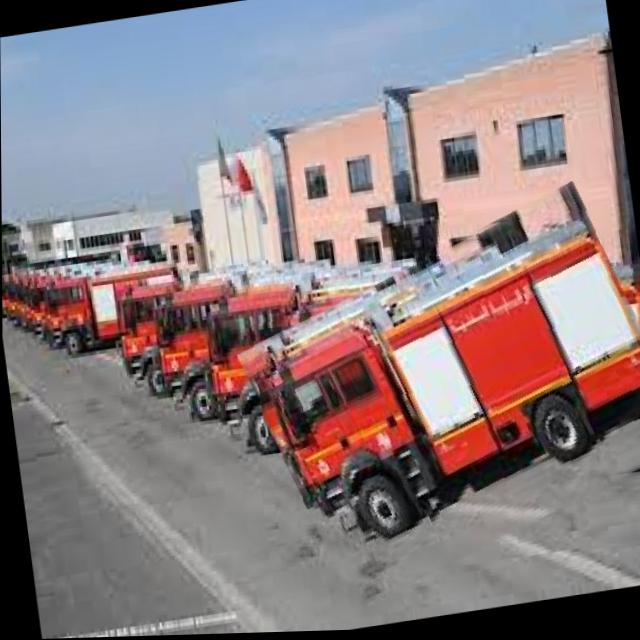Protection Civile: (241, 201, 640, 594)
